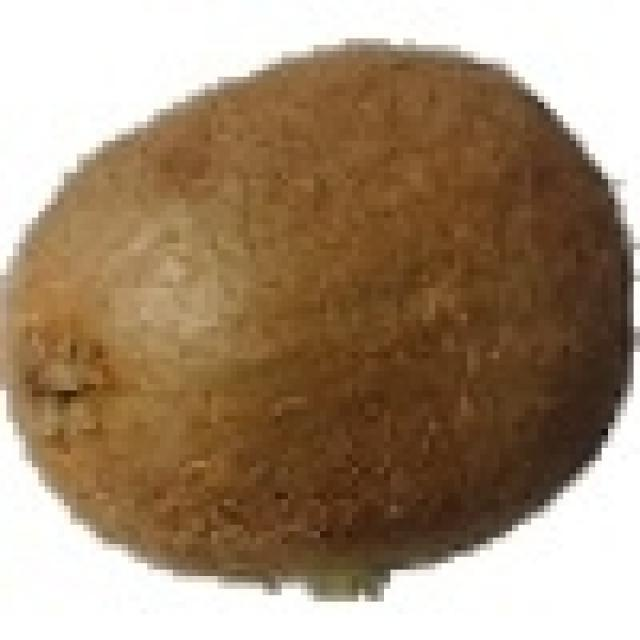kiwi: (6, 38, 621, 582)
